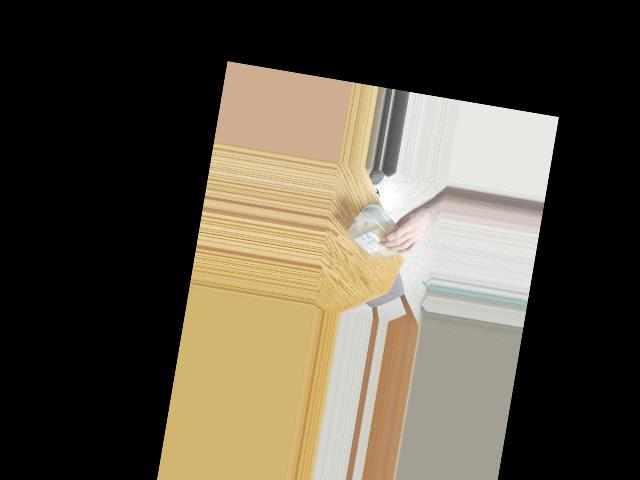cheese: (342, 203, 417, 264)
